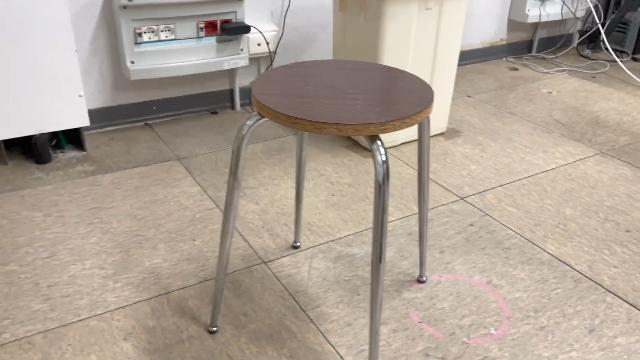Stool: (200, 52, 442, 360)
